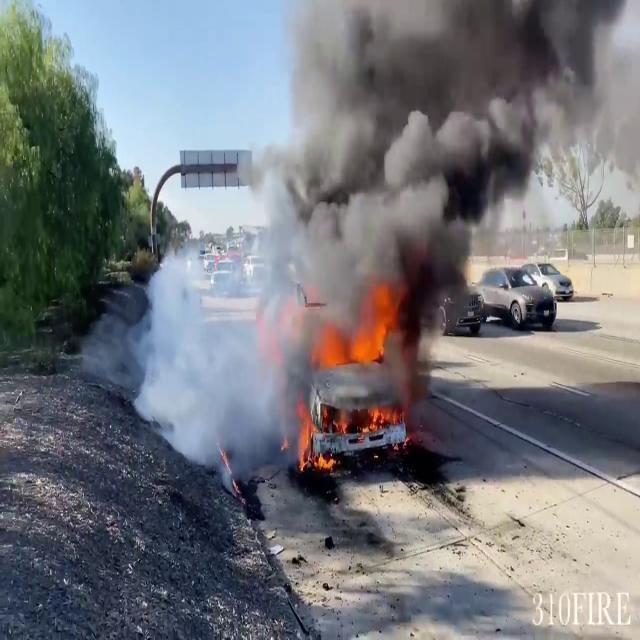Fire: (314, 286, 402, 368)
Smoke: (256, 0, 632, 336), (110, 212, 342, 475)
